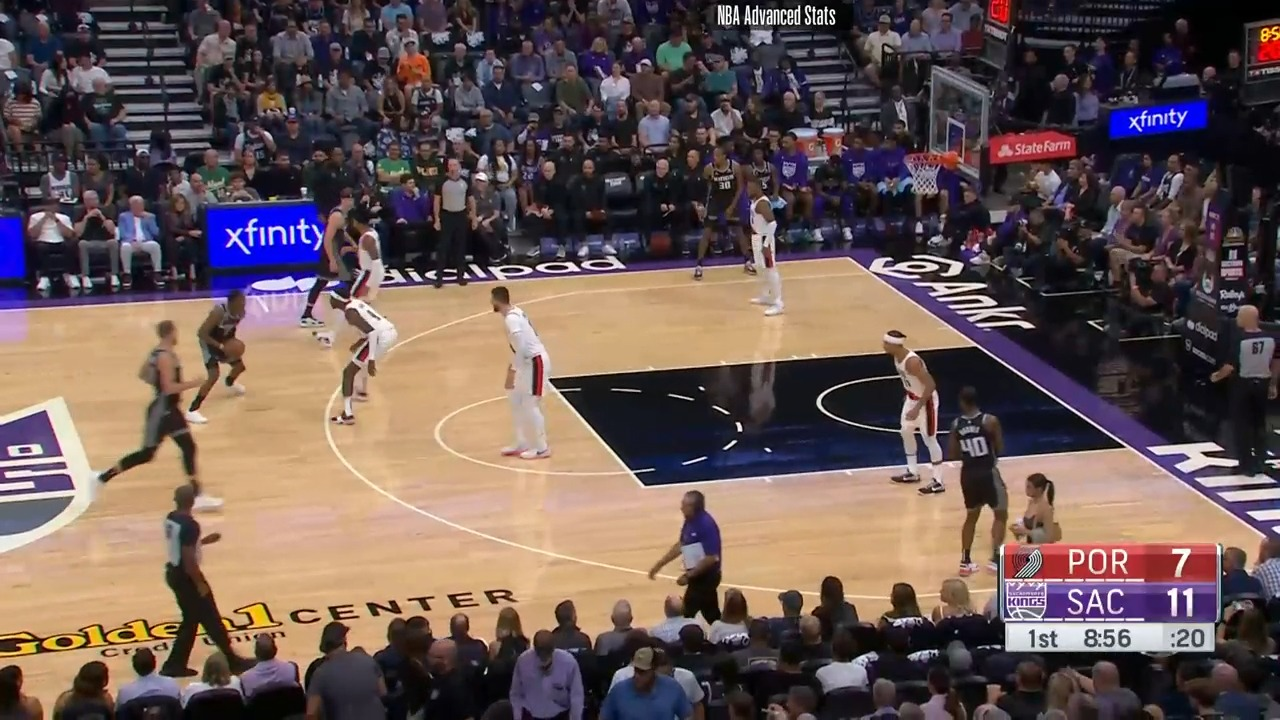net: (900, 147, 958, 197)
player: (87, 317, 207, 510), (476, 286, 553, 468), (946, 386, 1016, 579), (320, 287, 406, 432), (874, 329, 945, 499), (690, 141, 759, 283), (188, 286, 260, 421), (329, 210, 397, 343), (301, 191, 360, 328), (738, 174, 785, 317)
referee: (153, 479, 240, 674), (1214, 301, 1280, 481), (654, 488, 735, 617), (427, 159, 480, 292)
